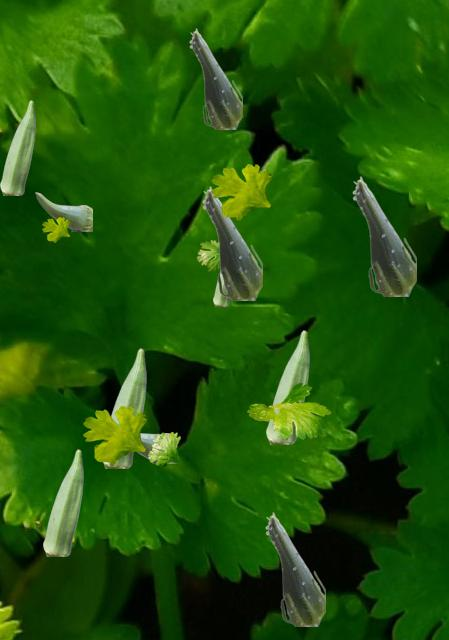okra: (352, 176, 415, 295), (265, 512, 324, 625), (202, 186, 261, 299), (189, 28, 241, 128), (103, 348, 145, 467), (266, 330, 308, 443), (43, 449, 82, 555), (0, 100, 34, 194), (35, 192, 91, 230), (138, 432, 168, 458), (213, 281, 229, 305)
